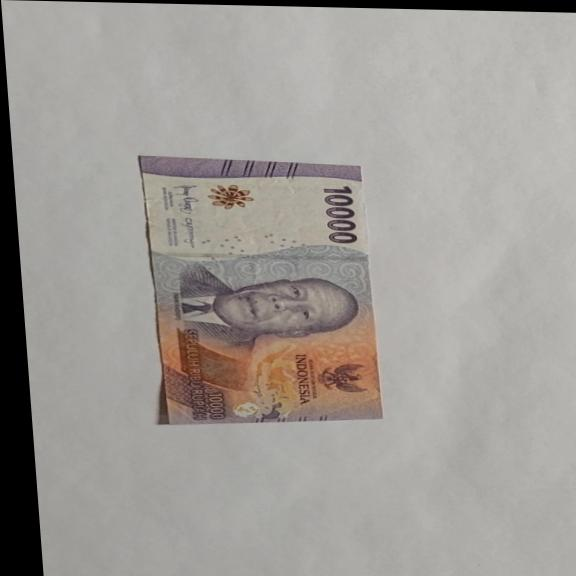Kertas: (136, 155, 386, 430), (320, 184, 361, 245)
